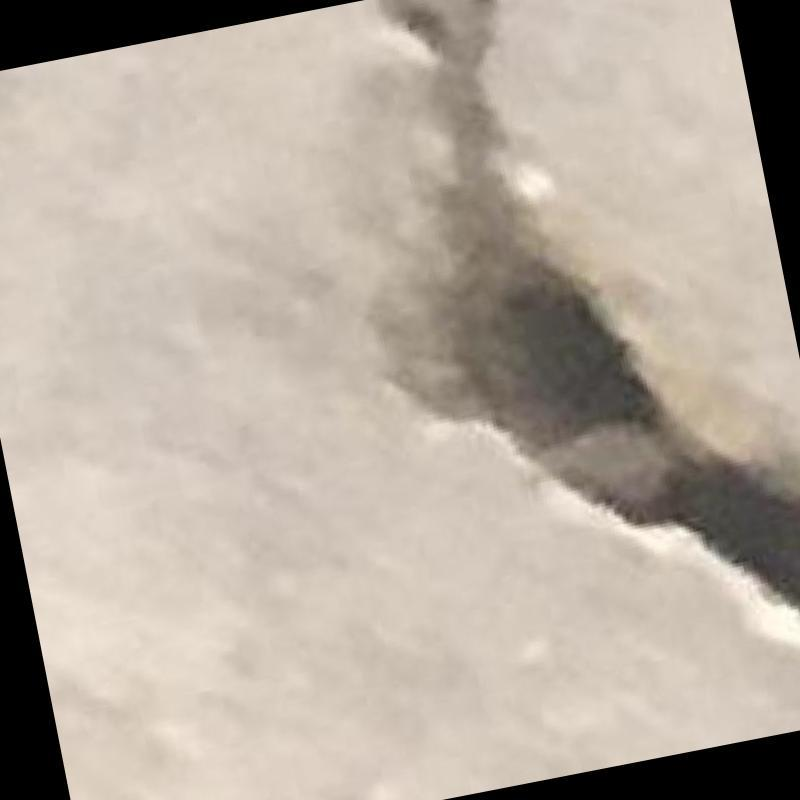pothole: (379, 0, 800, 604)
